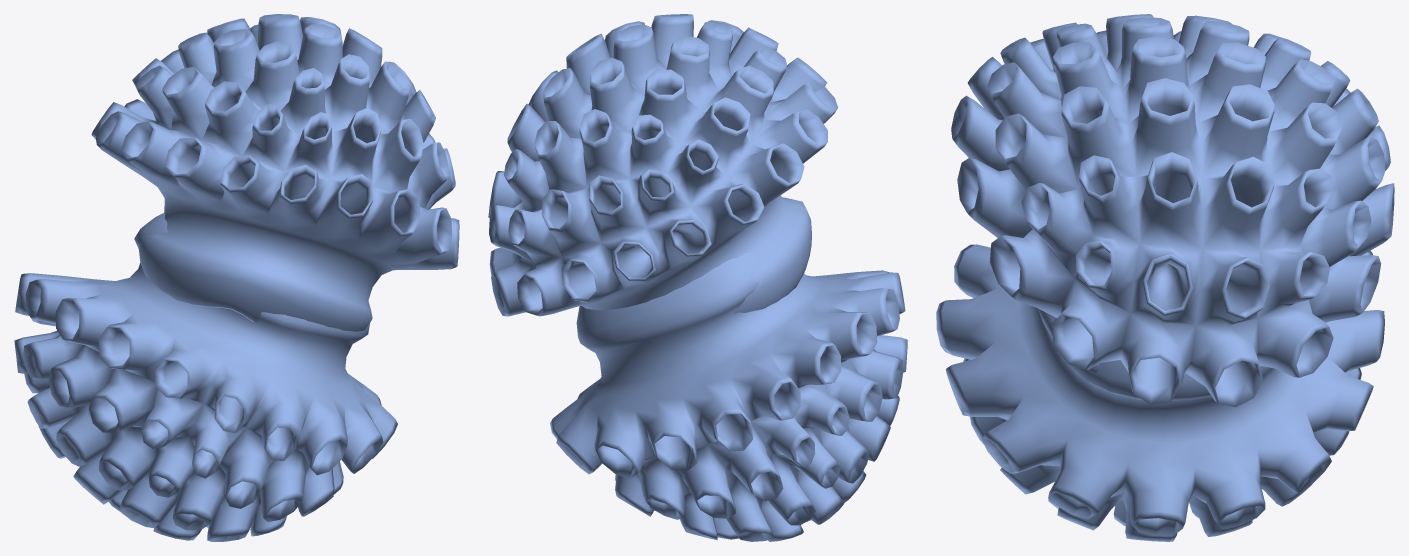
File: seacreature.fbx
3 renders of one model, left to right at view 1: azimuth 30°, elevation 25°; view 2: azimuth 150°, elevation 25°; view 3: azimuth 270°, elevation 25°, orthographic. The views are drawn at different scales.
Parts seen in each view (by area): view 1: Cube.001, Cube; view 2: Cube.001, Cube; view 3: Cube.001, Cube.
Boxes of the visible parts, bbox=[...] form: Cube.001: bbox=[91, 14, 459, 331]; Cube: bbox=[14, 213, 397, 541]; Cube.001: bbox=[488, 14, 838, 316]; Cube: bbox=[550, 252, 907, 541]; Cube.001: bbox=[951, 14, 1394, 407]; Cube: bbox=[936, 244, 1384, 541].
Size of the model in its own units: 261 by 313 by 243.
